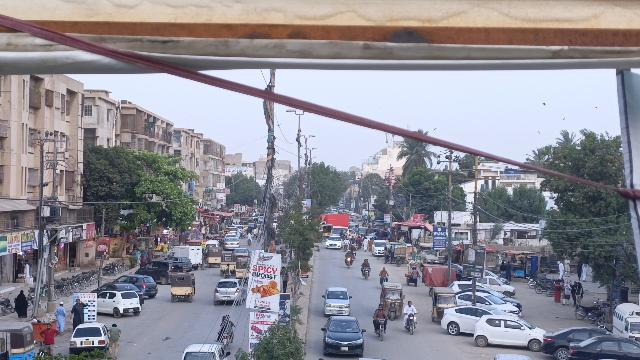Bike: (373, 317, 389, 341), (403, 311, 418, 335), (217, 331, 231, 349), (361, 266, 372, 282), (344, 256, 354, 270), (380, 275, 389, 285)
Car: (473, 311, 545, 352), (321, 315, 366, 360), (541, 325, 598, 357), (440, 304, 496, 336), (568, 336, 640, 360), (69, 322, 110, 356), (96, 289, 140, 320), (116, 272, 158, 300), (212, 279, 248, 307), (136, 261, 179, 283), (322, 286, 352, 317), (180, 342, 230, 360)
Person: (40, 322, 59, 358), (109, 321, 123, 359), (13, 289, 30, 320), (69, 298, 90, 323), (53, 300, 67, 335), (561, 278, 571, 305), (575, 281, 584, 306), (218, 314, 232, 330), (403, 300, 417, 316), (569, 279, 577, 305), (376, 303, 386, 319), (379, 265, 388, 275), (361, 258, 371, 267), (345, 249, 354, 258)
Rickshaw: (379, 280, 405, 321), (429, 286, 456, 321), (169, 271, 197, 304)
Suzuki: (612, 302, 640, 339)
Truck: (173, 244, 204, 269)
